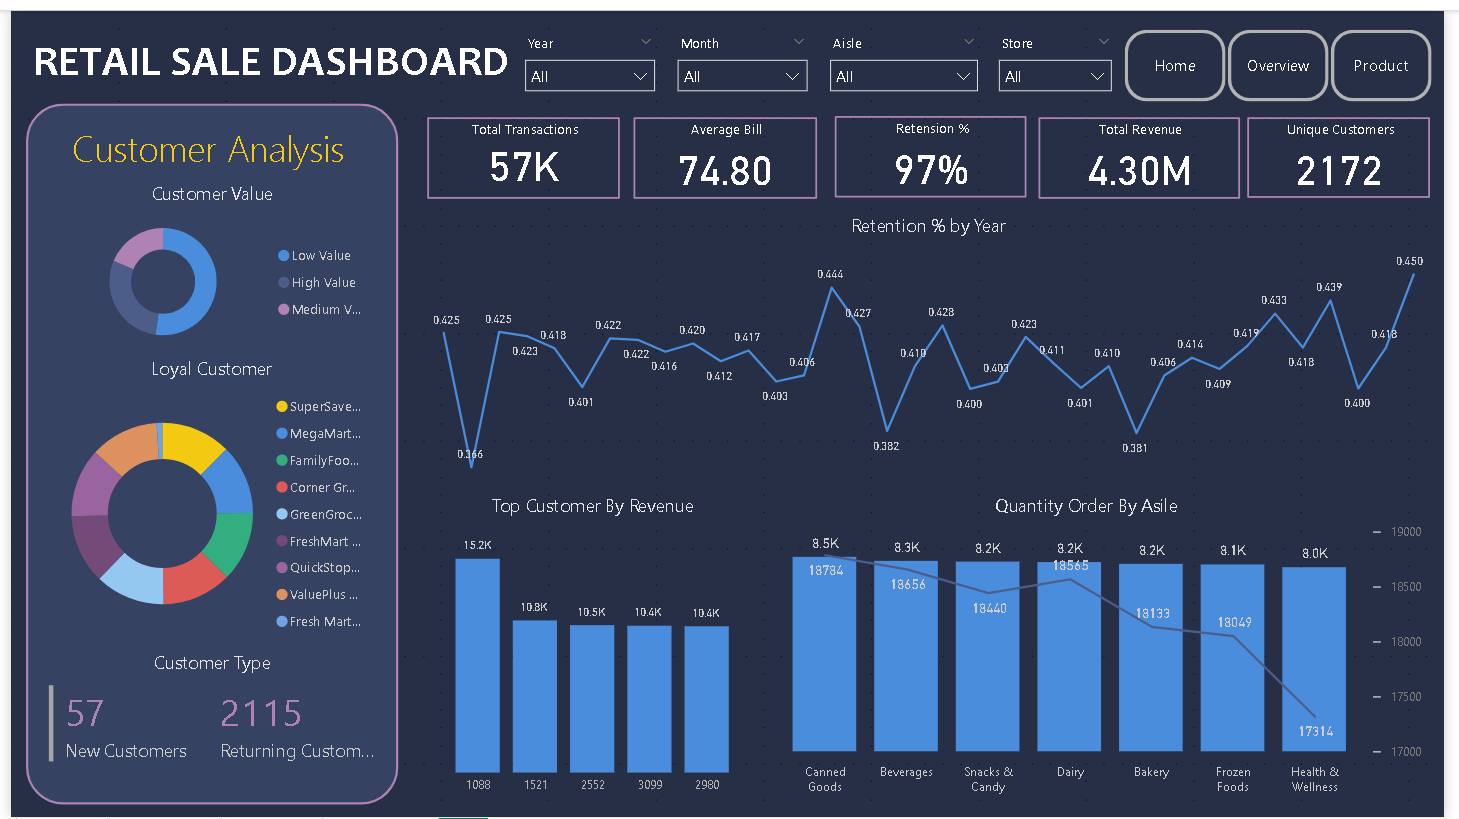

The dashboard page shown, as its layout file describes it:
{"tool":"powerbi","page":{"name":"Customer","canvas":[1280,720],"ordinal":3},"visuals":[{"type":"slicer","title":"Year","fields":{"Values":["public retail_sales.year"]},"box":[448.6,15.7,136,64],"z":0,"group":"g1"},{"type":"shape","box":[13.9,82.1,332.5,626.1],"z":0},{"type":"card","title":"Average Bill","fields":{"Values":["Sum(public retail_kpi_summary.avg_bill_value)"]},"box":[555.2,95.8,163.7,72.7],"z":0,"group":"g2"},{"type":"slicer","fields":{"Values":["public retail_sales.month_name"]},"box":[584.6,15.7,136,64],"z":1000,"group":"g1"},{"type":"card","title":"Total Revenue","fields":{"Values":["Sum(public retail_kpi_summary.total_revenue)"]},"box":[917.4,95.8,179.8,72.7],"z":1000,"group":"g2"},{"type":"clusteredColumnChart","title":"Top Customer By Revenue","fields":{"Category":["public retail_sales.customer_id"],"Y":["Sum(public retail_sales.Total Revenue)"]},"box":[371.5,428.5,296.3,279.7],"z":1000},{"type":"slicer","fields":{"Values":["public retail_sales.aisle"]},"box":[720.6,15.7,152,64],"z":2000,"group":"g1"},{"type":"card","title":"Total Transactions","fields":{"Values":["Sum(public retail_kpi_summary.total_transactions)"]},"box":[371.4,95.8,171.7,72.7],"z":2000,"group":"g2"},{"type":"lineStackedColumnComboChart","title":"Quantity Order By Asile","fields":{"Category":["public retail_sales.aisle"],"Y":["CountNonNull(public retail_sales.customer_id)"],"Y2":["Sum(public retail_sales.quantity)"]},"box":[652.5,428.5,615,279.7],"z":2000},{"type":"slicer","fields":{"Values":["public retail_sales.store_name"]},"box":[872.1,16,121.6,64.7],"z":3000,"group":"g1"},{"type":"card","title":"Unique Customers","fields":{"Values":["Sum(public retail_kpi_summary.unique_customers)"]},"box":[1104,95.5,163.1,72.2],"z":3000,"group":"g2"},{"type":"donutChart","title":"Loyal Customer","fields":{"Category":["public retail_sales.store_name"],"Y":["CountNonNull(public retail_sales.Loyalty Segment)"]},"box":[29.2,307.5,300.5,261.6],"z":3000},{"type":"group","id":"g1","title":"Group 1","box":[448.6,15.7,545.7,65.7],"z":4000},{"type":"pageNavigator","box":[994.3,17.1,274.3,64.3],"z":5000},{"type":"card","title":"Retension %","fields":{"Values":["public customer_summary_view.Retention %"]},"box":[735,94.3,171.4,73.2],"z":5000,"group":"g2"},{"type":"group","id":"g2","title":"Group 2","box":[371.4,94.3,895.7,74.3],"z":6000},{"type":"textbox","box":[14.3,17.1,442.9,64.3],"z":7000},{"type":"multiRowCard","title":"Customer Type","fields":{"Values":["public customer_summary_view.New Customers","public customer_summary_view.Returning Customers"]},"box":[29.2,569,301.9,115.5],"z":8000},{"type":"donutChart","title":"Customer Value ","fields":{"Category":["public customer_summary_view.Customer Value Segment"],"Y":["Count(public retail_sales.customer_id)"]},"box":[29.2,150.3,301.9,160],"z":9000},{"type":"lineChart","title":"Retention % by Year","fields":{"Category":["public retail_sales.month_year.Variation.Date Hierarchy.Year","public retail_sales.month_year.Variation.Date Hierarchy.Quarter","public retail_sales.month_year.Variation.Date Hierarchy.Month","public retail_sales.month_year.Variation.Date Hierarchy.Day"],"Y":["public customer_summary_view.Retention %"]},"box":[371.5,178.1,896,247.7],"z":10000},{"type":"textbox","box":[48.7,96,281,54.3],"z":11000}]}

Visuals, with their boxes in screenshot pixels (x1, y1, x2, y2), scaled from the page's 1280x720 canvas onto the 1459x819 screenshot:
"Year" slicer: (511, 18, 666, 91)
shape: (16, 93, 395, 806)
"Average Bill" card: (633, 109, 819, 192)
slicer - public retail_sales.month_name: (666, 18, 821, 91)
"Total Revenue" card: (1046, 109, 1251, 192)
"Top Customer By Revenue" clusteredColumnChart: (423, 487, 761, 806)
slicer - public retail_sales.aisle: (821, 18, 995, 91)
"Total Transactions" card: (423, 109, 619, 192)
"Quantity Order By Asile" lineStackedColumnComboChart: (744, 487, 1445, 806)
slicer - public retail_sales.store_name: (994, 18, 1133, 92)
"Unique Customers" card: (1258, 109, 1444, 191)
"Loyal Customer" donutChart: (33, 350, 376, 647)
"Group 1" group: (511, 18, 1133, 93)
pageNavigator: (1133, 19, 1446, 93)
"Retension %" card: (838, 107, 1033, 191)
"Group 2" group: (423, 107, 1444, 192)
textbox: (16, 19, 521, 93)
"Customer Type" multiRowCard: (33, 647, 377, 779)
"Customer Value " donutChart: (33, 171, 377, 353)
"Retention % by Year" lineChart: (423, 203, 1445, 484)
textbox: (56, 109, 376, 171)
